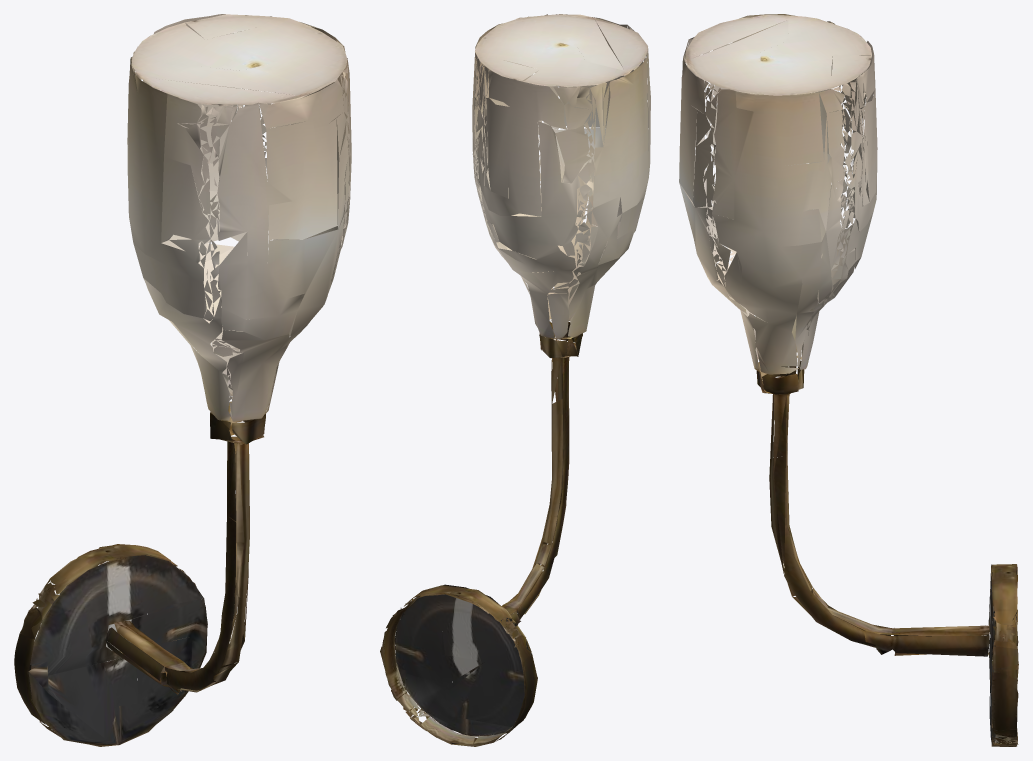
File: duvar_lambasi.glb
The picture shows the model from 3 angles, left to right: view 1: azimuth 30°, elevation 25°; view 2: azimuth 150°, elevation 25°; view 3: azimuth 270°, elevation 25°; orthographic projection. The views are drawn at different scales.
Visible parts, largest first — view 1: Mesh_0; view 2: Mesh_0; view 3: Mesh_0.
Boxes of the visible parts, bbox=[...] form: Mesh_0: bbox=[14, 14, 351, 746]; Mesh_0: bbox=[380, 14, 650, 746]; Mesh_0: bbox=[679, 14, 1018, 746].
Size of the model in its own units: 0.1046 by 0.4 by 0.1796.
1 material, 1 textured.
